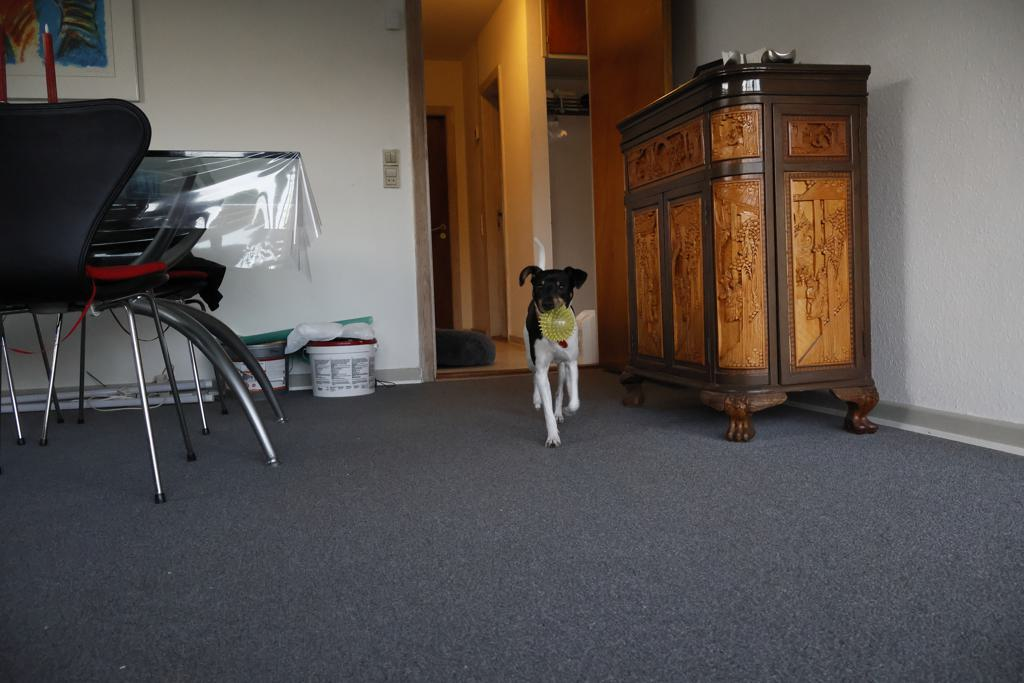Dog: (511, 234, 595, 452)
